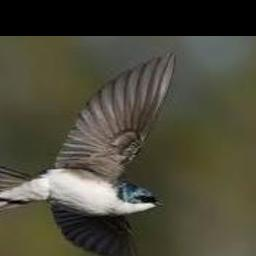Swallow: (0, 52, 178, 256)
